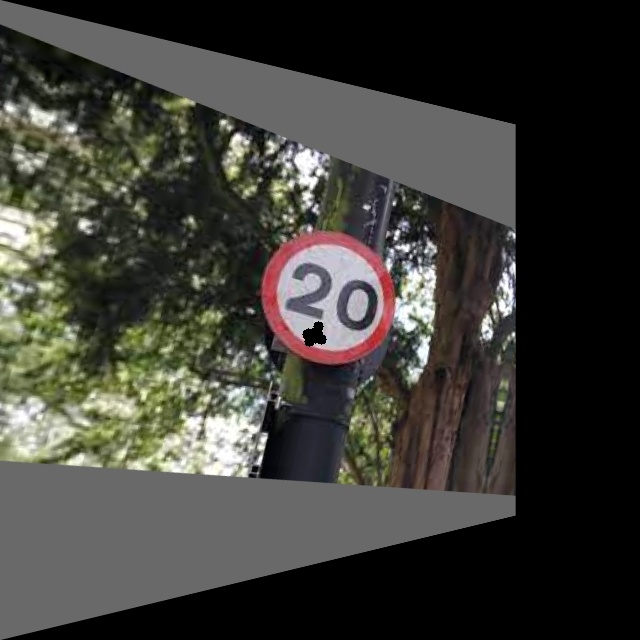Speed_Limit_20: (243, 209, 409, 382)
